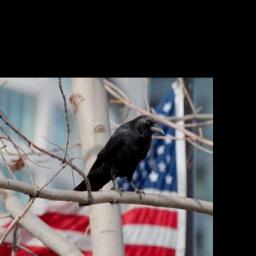Crow: (70, 113, 165, 203)
